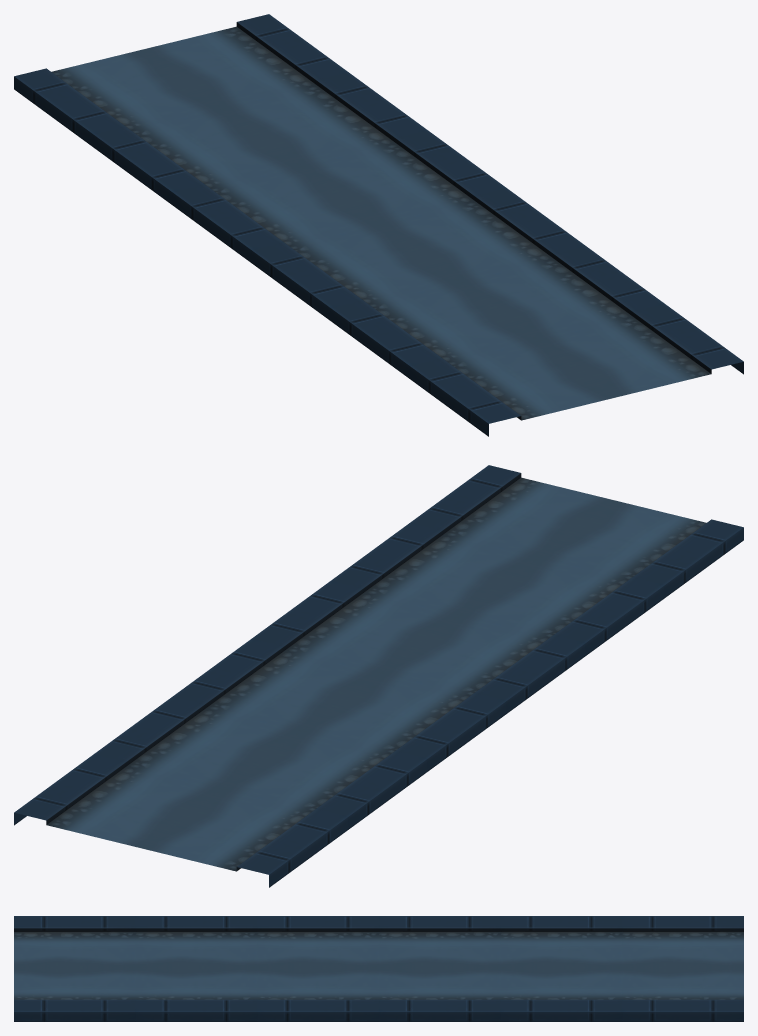
The model's file is RoadPiece_02.FBX.
3 views of the same model, one above another, from view 1: azimuth 30°, elevation 25°; view 2: azimuth 150°, elevation 25°; view 3: azimuth 270°, elevation 25° (orthographic). The views are drawn at different scales.
Visible parts, largest first — view 1: RoadPiece_02; view 2: RoadPiece_02; view 3: RoadPiece_02.
Boxes of the visible parts, box(x1,y1,x2,y2) form: RoadPiece_02: box(14, 14, 743, 436); RoadPiece_02: box(14, 465, 743, 887); RoadPiece_02: box(14, 916, 743, 1021).
Size of the model in its own units: 163 by 7.95 by 526.
